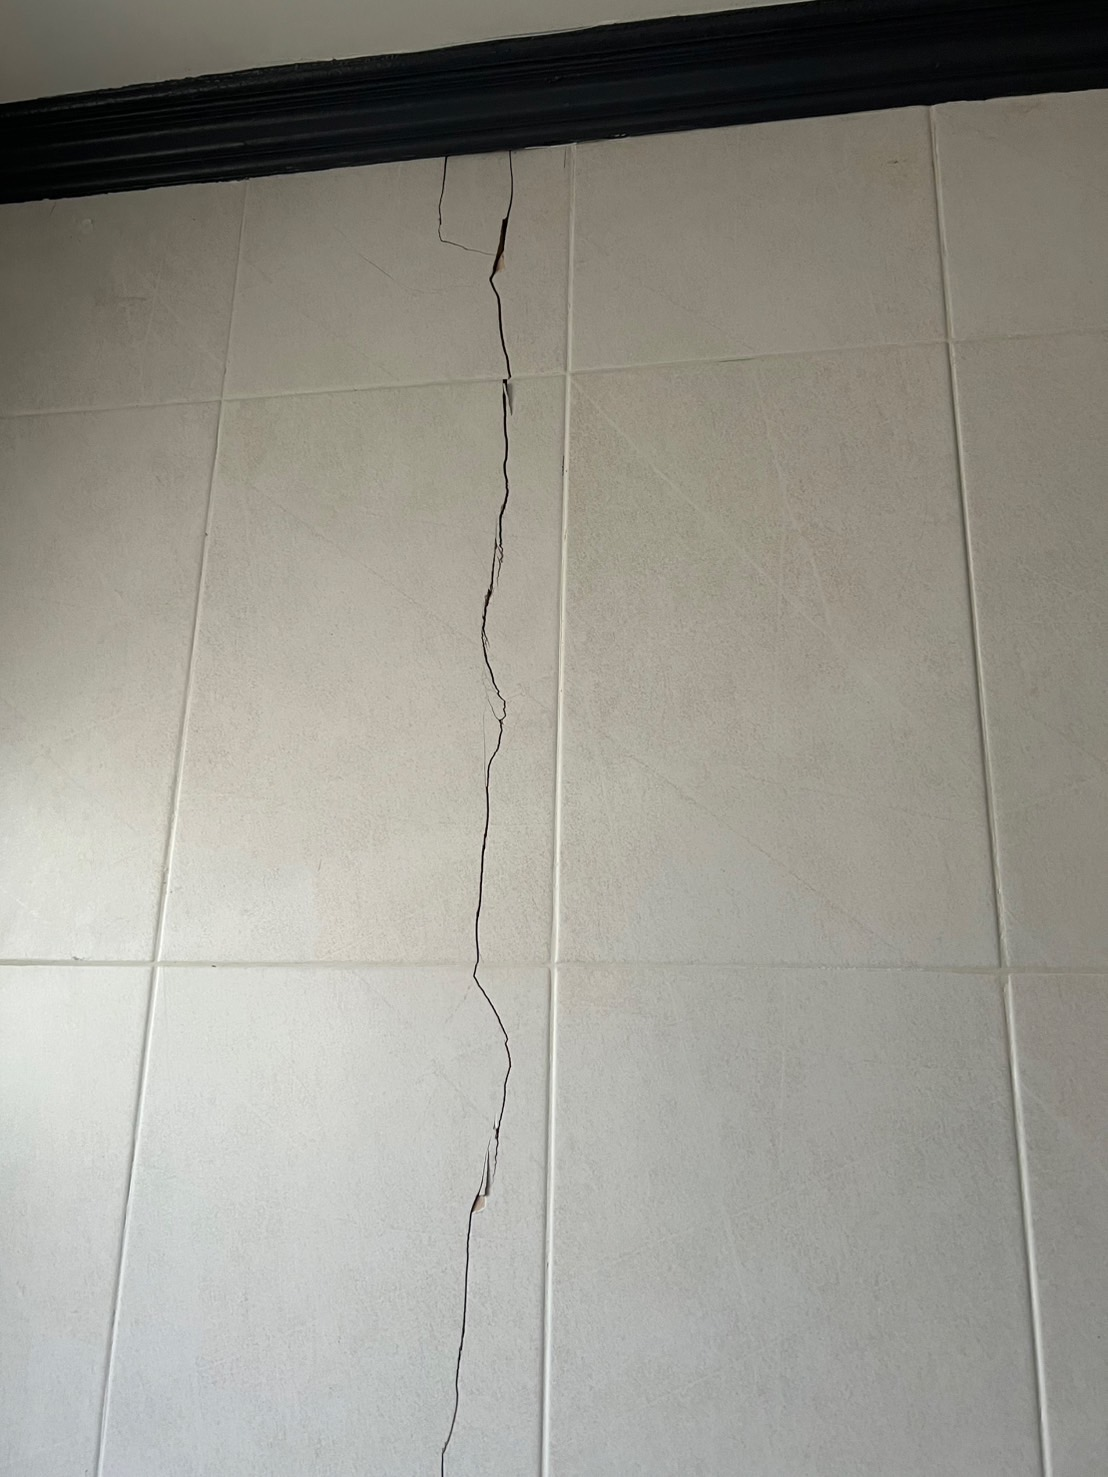Low: (398, 152, 564, 1477)
